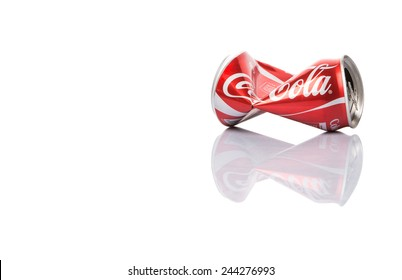can: (209, 48, 366, 132)
